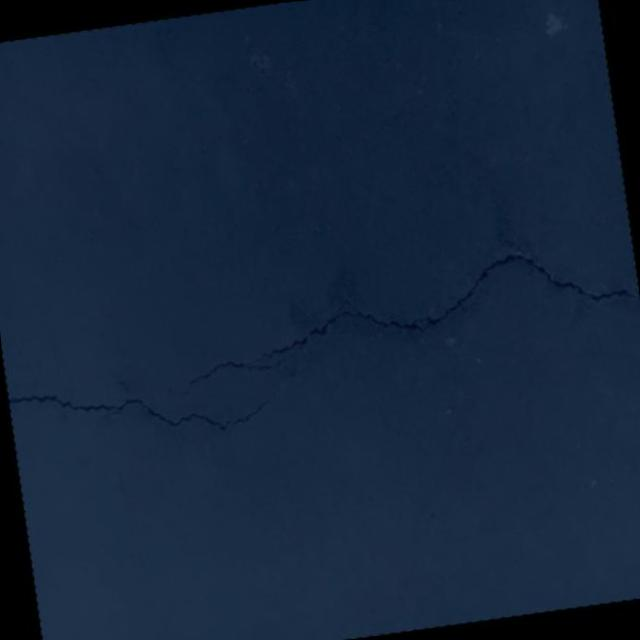crack: (149, 235, 640, 396), (7, 359, 286, 458)
